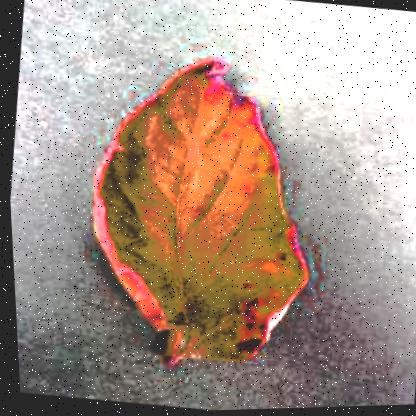BACTERIAL SPOT: (61, 34, 340, 397)
